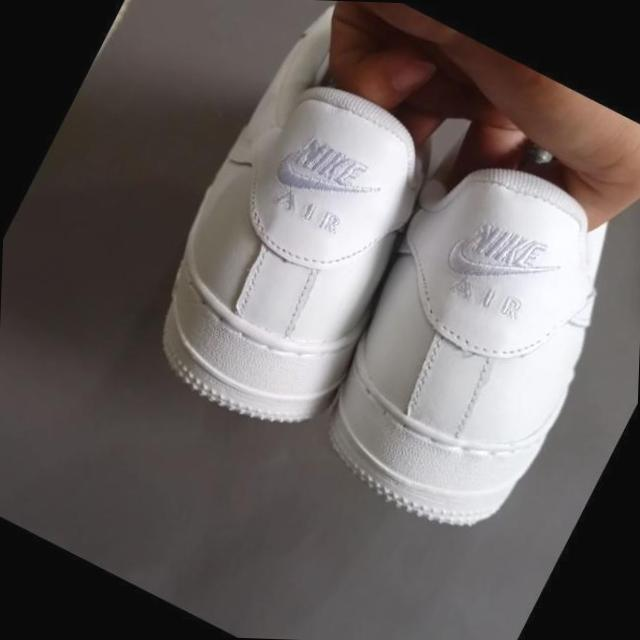nike_fake_airforce: (277, 120, 640, 566), (106, 37, 469, 460)
